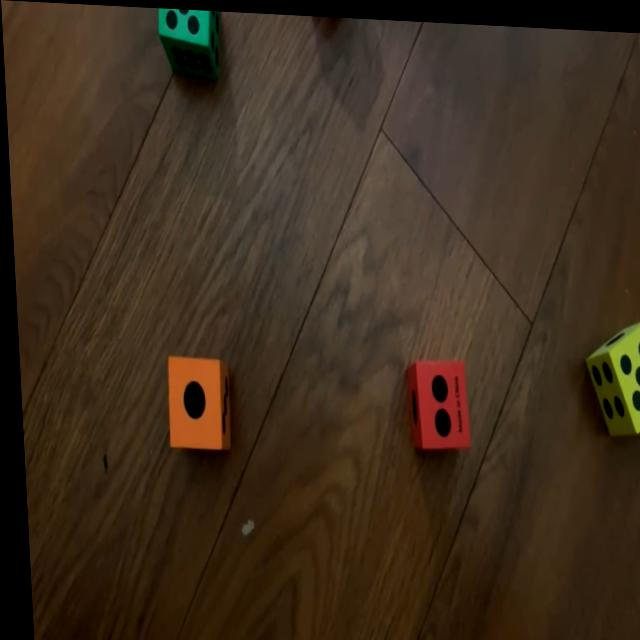red_block: (403, 353, 467, 450)
